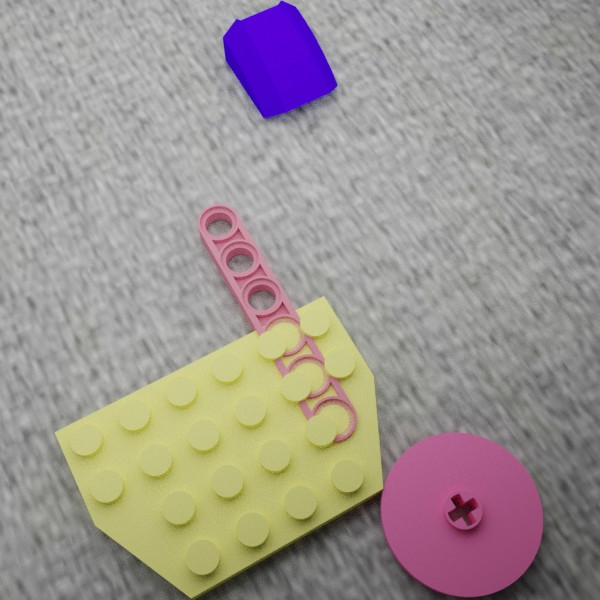lego: (54, 296, 383, 599), (197, 204, 357, 447), (380, 432, 543, 597), (222, 0, 338, 118)
